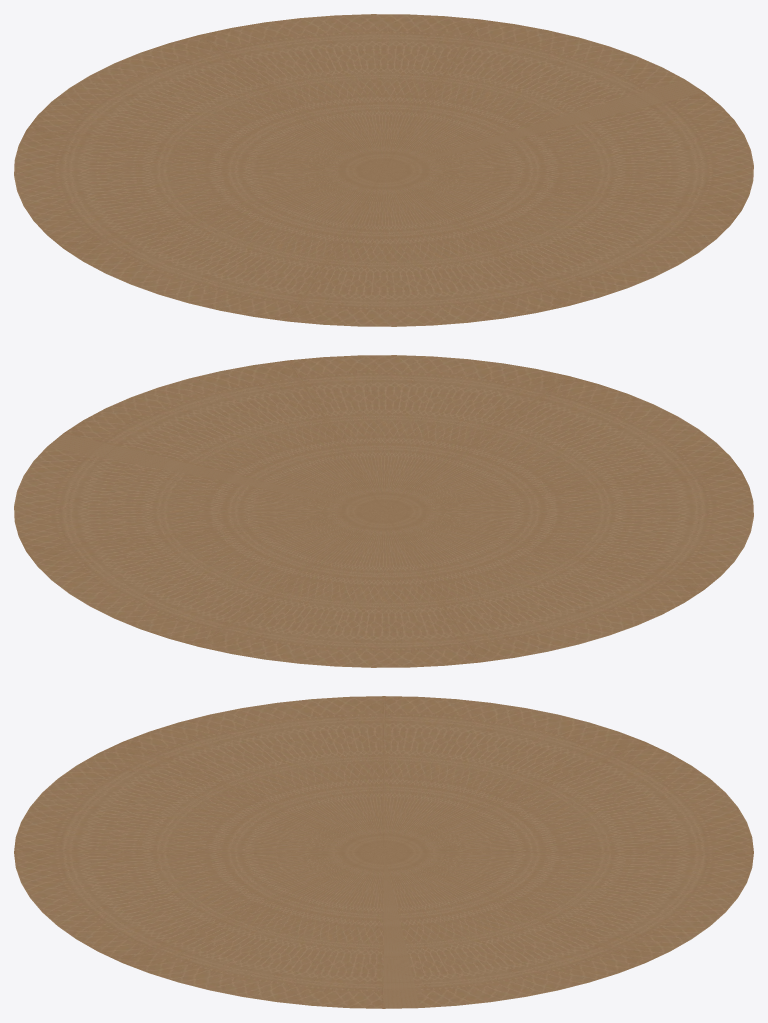
File: rug_round_maple.glb
The picture shows the model from 3 angles, top to bottom: view 1: azimuth 30°, elevation 25°; view 2: azimuth 150°, elevation 25°; view 3: azimuth 270°, elevation 25°; orthographic projection.
Parts seen in each view (by area): view 1: RoundRug; view 2: RoundRug; view 3: RoundRug.
Part boxes in pixels (box(x1,y1,x2,y2)): RoundRug: box(14, 14, 753, 326); RoundRug: box(14, 355, 753, 667); RoundRug: box(14, 696, 753, 1008).
Size of the model in its own units: 2 by 0 by 2.
1 material, 1 textured.
